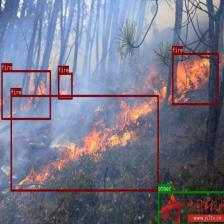fire: (11, 94, 158, 191), (1, 70, 51, 119), (172, 52, 218, 105), (58, 73, 72, 99)
